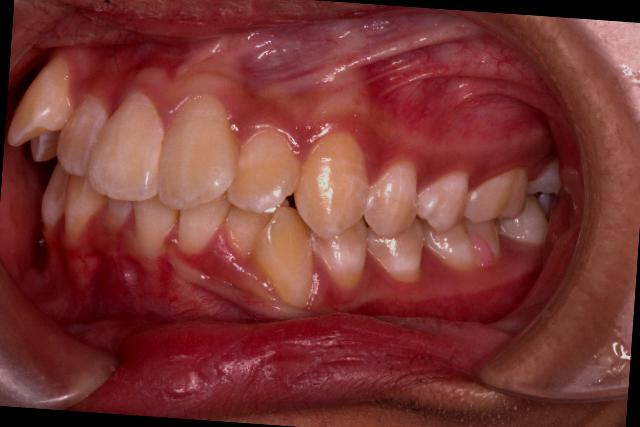canine class III 1/4: (250, 110, 384, 314)
molar class III 1/4: (423, 162, 532, 278)
